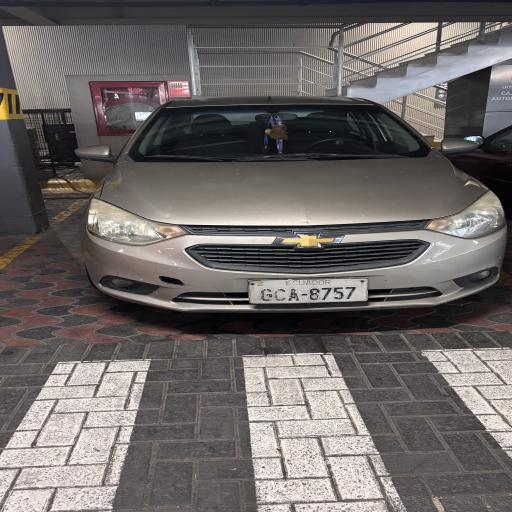license_plate: (249, 278, 368, 303)
